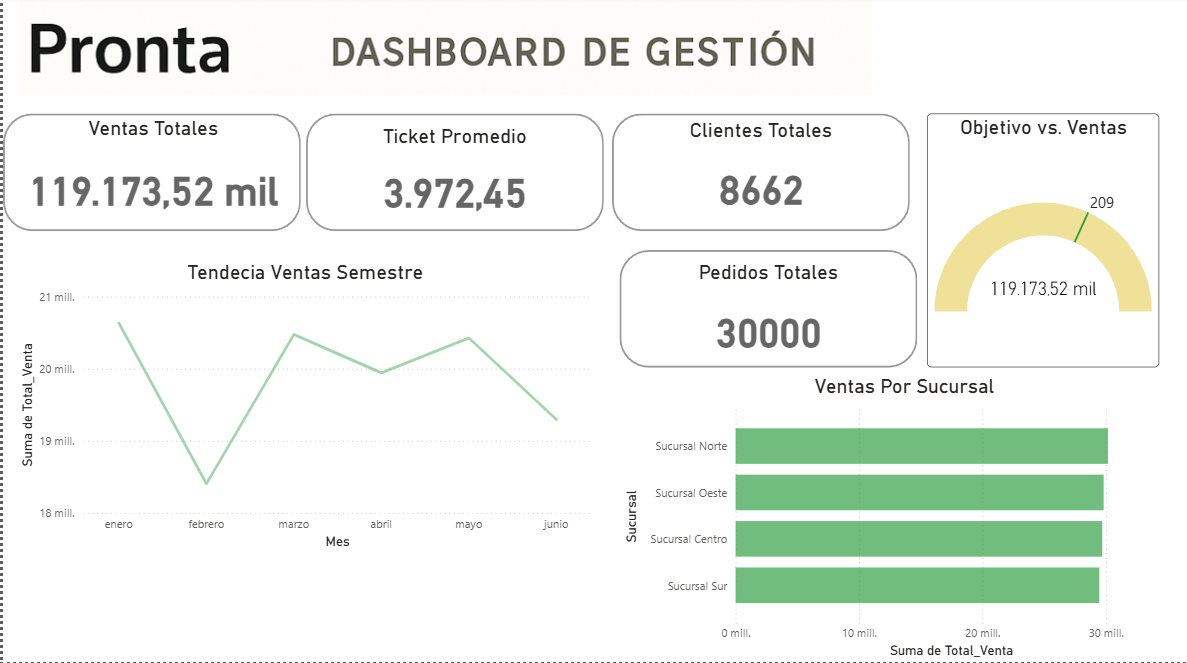

The page's visual inventory and layout, read from the dashboard file:
{"tool":"powerbi","page":{"name":"Dashboard Ejecutivo ","canvas":[1280,720],"ordinal":0},"visuals":[{"type":"shape","box":[664.7,274.9,321.6,127],"z":0},{"type":"shape","box":[658.1,128.1,321.6,127],"z":1000},{"type":"shape","box":[327.7,128.1,321.6,127],"z":2000},{"type":"shape","box":[0,128.7,321.6,127],"z":3000},{"type":"card","title":"Ticket Promedio","fields":{"Values":["Sheet1.Promedio de Suma de Total_Venta por ID_Venta_Int"]},"box":[327.7,139.7,321.6,115.5],"z":4000},{"type":"card","title":"Ventas Totales","fields":{"Values":["Sum(Sheet1.Total_Venta)"]},"box":[13.2,131.4,298.6,127],"z":5000},{"type":"card","title":"Clientes Totales","fields":{"Values":["Count(Sheet1.ID_Cliente)"]},"box":[658.1,133.1,321.6,122.1],"z":6000},{"type":"card","title":"Pedidos Totales","fields":{"Values":["Count(Sheet1.ID_Venta_Int)"]},"box":[664.8,287.1,321.6,122.1],"z":7000},{"type":"gauge","title":"Objetivo vs. Ventas","fields":{"Y":["Sum(Sheet1.Total_Venta)"]},"box":[997.9,128.7,250.7,273.8],"z":8000},{"type":"image","box":[13.2,0,930.3,113.8],"z":9000},{"type":"lineChart","title":"Tendecia Ventas Semestre","fields":{"Y":["Sum(Sheet1.Total_Venta)"],"Category":["Sheet1.Fecha_Venta.Variación.Jerarquía de fechas.Mes"]},"box":[13.2,287,626.8,315.1],"z":10000},{"type":"clusteredBarChart","title":"Ventas Por Sucursal","fields":{"Y":["Sum(Sheet1.Total_Venta)"],"Category":["Sheet1.Sucursal"]},"box":[664.7,409.1,615.3,310.1],"z":11000}]}

Visuals, with their boxes in screenshot pixels (x1, y1, x2, y2), scaled from the page's 1280x720 canvas onto the 1187x663 screenshot:
shape: x1=616, y1=253, x2=915, y2=370
shape: x1=610, y1=118, x2=909, y2=235
shape: x1=304, y1=118, x2=602, y2=235
shape: x1=0, y1=119, x2=298, y2=235
"Ticket Promedio" card: x1=304, y1=129, x2=602, y2=235
"Ventas Totales" card: x1=12, y1=121, x2=289, y2=238
"Clientes Totales" card: x1=610, y1=123, x2=909, y2=235
"Pedidos Totales" card: x1=616, y1=264, x2=915, y2=377
"Objetivo vs. Ventas" gauge: x1=925, y1=119, x2=1158, y2=371
image: x1=12, y1=0, x2=875, y2=105
"Tendecia Ventas Semestre" lineChart: x1=12, y1=264, x2=594, y2=554
"Ventas Por Sucursal" clusteredBarChart: x1=616, y1=377, x2=1186, y2=662
